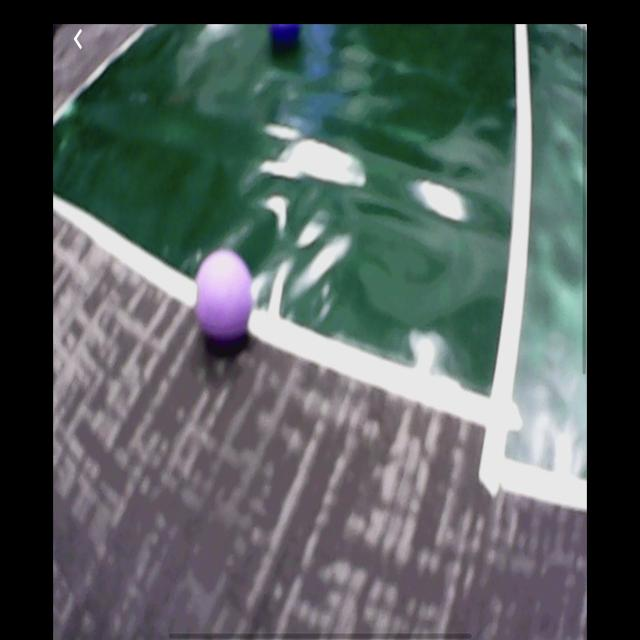ball: (198, 252, 252, 343), (268, 25, 303, 50)
